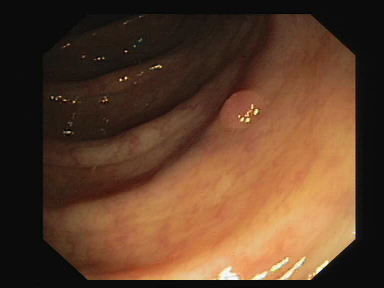polyp: (204, 75, 282, 148)
